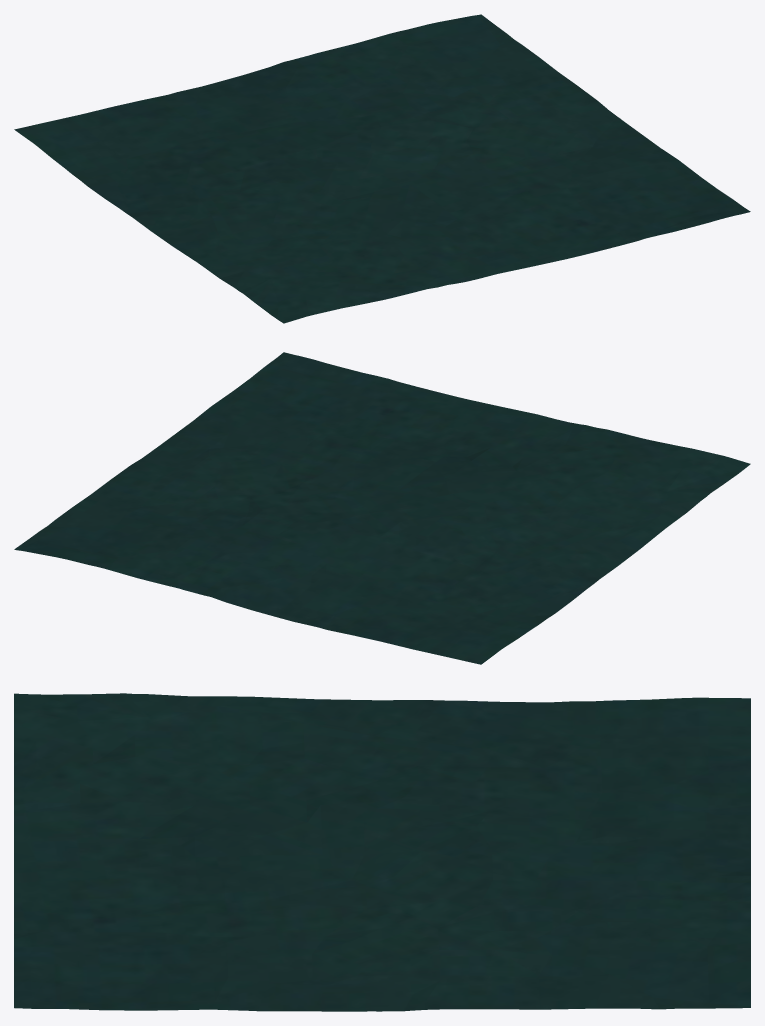
The picture shows the model from 3 angles, top to bottom: view 1: azimuth 30°, elevation 25°; view 2: azimuth 150°, elevation 25°; view 3: azimuth 270°, elevation 25°; orthographic projection. The views are drawn at different scales.
Bounding box in the file's own units: 52.22 × 0.9071 × 52.22.
Materials: 2 (2 with a texture image).
